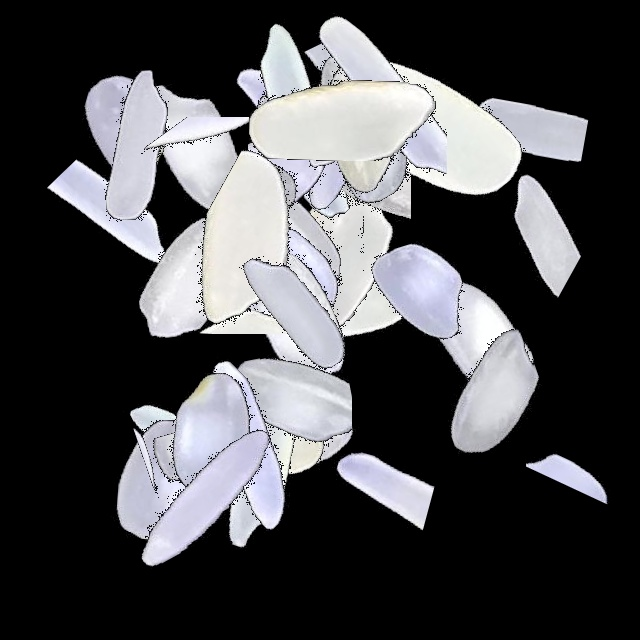Broken: (181, 280, 352, 530), (192, 137, 362, 387), (0, 145, 250, 313), (376, 41, 626, 209), (280, 7, 447, 257), (97, 16, 260, 266), (219, 0, 469, 161), (385, 140, 635, 299), (173, 44, 423, 194), (248, 50, 395, 300), (139, 398, 389, 536), (275, 54, 411, 304), (231, 81, 354, 331), (99, 421, 349, 542), (244, 435, 494, 556), (526, 305, 639, 555), (80, 117, 330, 227), (76, 424, 326, 524), (267, 150, 364, 400), (234, 29, 484, 119), (45, 347, 295, 436), (108, 248, 358, 334), (324, 0, 403, 250)
Full: (80, 323, 330, 573), (202, 163, 452, 413), (212, 132, 462, 382), (202, 0, 452, 250), (69, 21, 319, 271), (34, 353, 284, 603), (152, 317, 402, 567), (235, 0, 485, 250), (0, 3, 250, 253), (196, 0, 446, 250), (179, 0, 429, 250), (136, 329, 386, 579), (360, 222, 610, 472), (163, 107, 413, 357), (296, 169, 546, 419), (64, 153, 314, 403), (160, 144, 410, 394), (220, 0, 470, 250), (302, 0, 552, 250), (171, 190, 421, 440), (238, 0, 488, 250), (366, 266, 616, 516), (122, 321, 372, 571), (90, 308, 340, 558), (237, 0, 487, 250), (78, 372, 328, 622), (173, 185, 423, 435)
